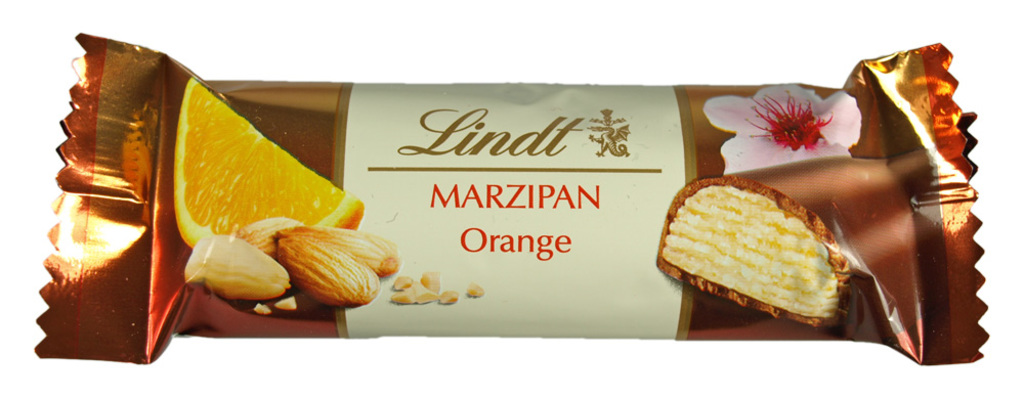Ripe: (169, 71, 356, 257)
